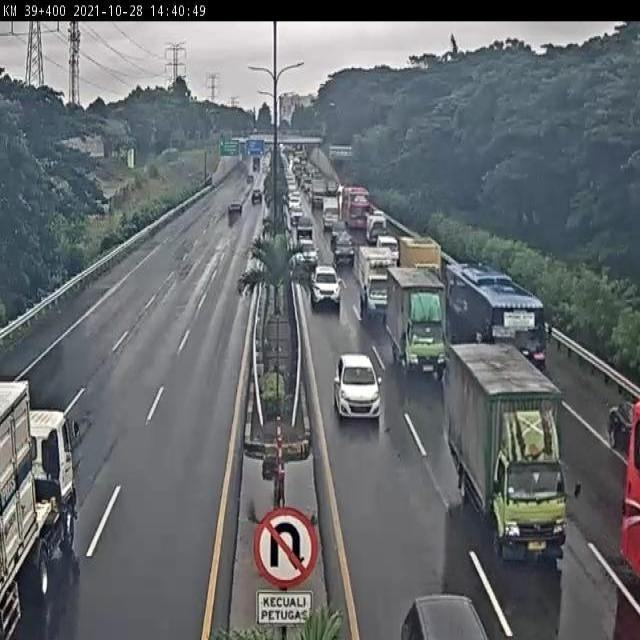big bus: (444, 260, 543, 377)
big truck: (0, 374, 80, 640)
car: (333, 355, 382, 417), (607, 396, 640, 448), (310, 265, 343, 307)
mid truck: (443, 340, 568, 556), (387, 264, 448, 376), (357, 245, 397, 319)
